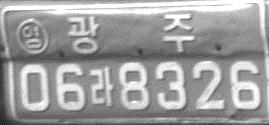0: (18, 63, 50, 112)
2: (190, 60, 224, 110)
3: (154, 61, 186, 110)
6: (229, 59, 261, 110), (54, 63, 86, 111)
8: (117, 61, 149, 111)
광주_D: (66, 13, 195, 55)
라: (88, 67, 114, 107)
영: (15, 17, 49, 55)
